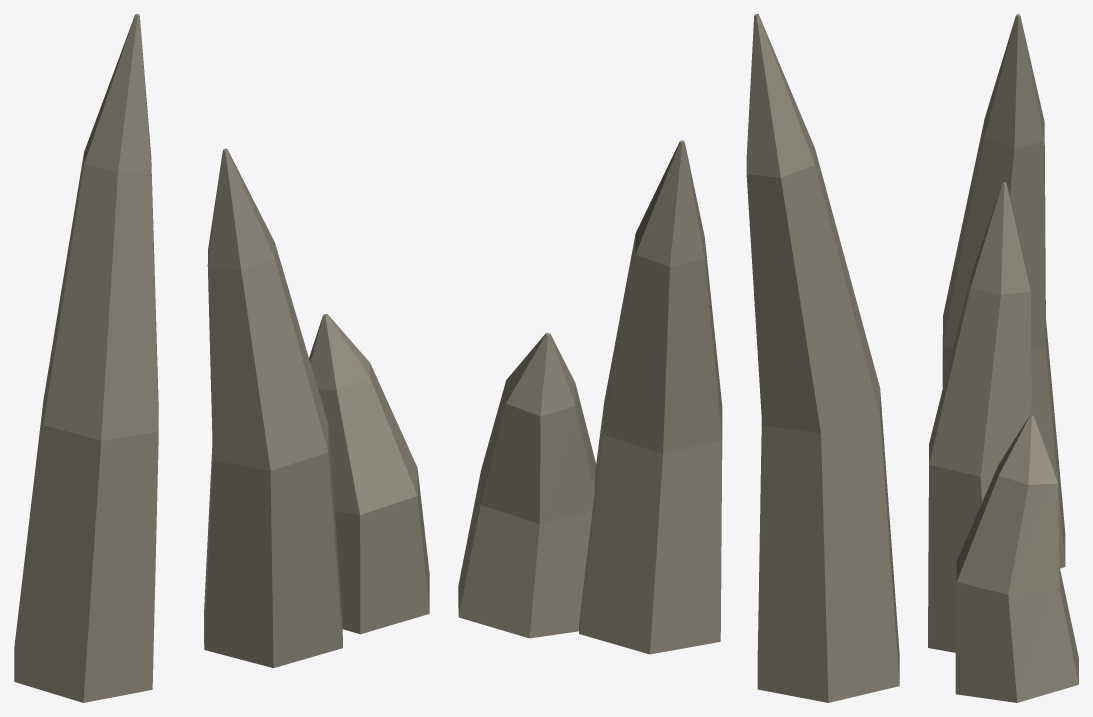
Rendered from Environment_Feature_Hills_KarstPinnacles_001_LOD1.glb.
3 views of the same model, side by side, from view 1: azimuth 30°, elevation 25°; view 2: azimuth 150°, elevation 25°; view 3: azimuth 270°, elevation 25° (orthographic). The views are drawn at different scales.
Parts seen in each view (by area): view 1: Environment_Feature_Hills_KarstPinnacles_001_LOD1; view 2: Environment_Feature_Hills_KarstPinnacles_001_LOD1; view 3: Environment_Feature_Hills_KarstPinnacles_001_LOD1.
Boxes of the visible parts, x1,y1,x2,y2 form: Environment_Feature_Hills_KarstPinnacles_001_LOD1: (14, 14, 429, 702); Environment_Feature_Hills_KarstPinnacles_001_LOD1: (458, 14, 899, 702); Environment_Feature_Hills_KarstPinnacles_001_LOD1: (928, 14, 1078, 702).
Size of the model in its own units: 4.76 by 6.88 by 1.65.
